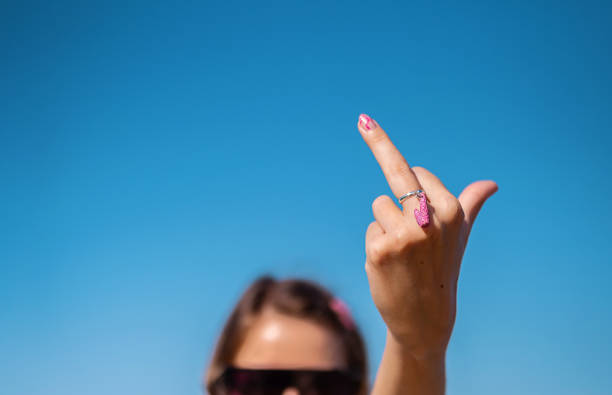insulting_gesture: (354, 110, 501, 348)
